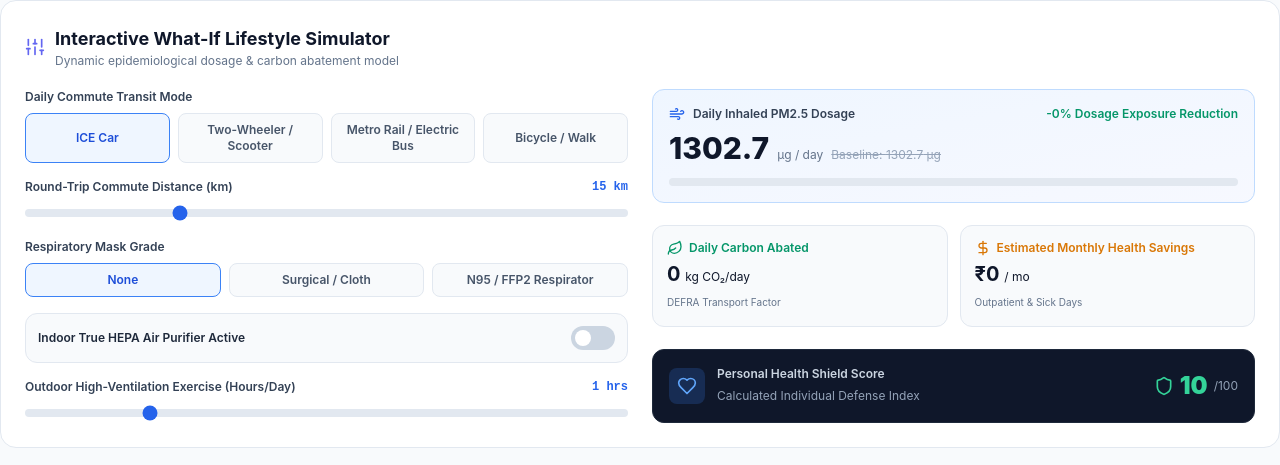
Scenario: WhatIfSimulator Interactions & State Transitions › adjusts outdoor exercise hours slider
The width and height of the screenshot is (1280, 465).
Set the slider labelled "Outdoor High-Ventilation Exercise (Hours/Day)" to "3" at (385, 413), box left=25, top=409, right=628, bottom=417
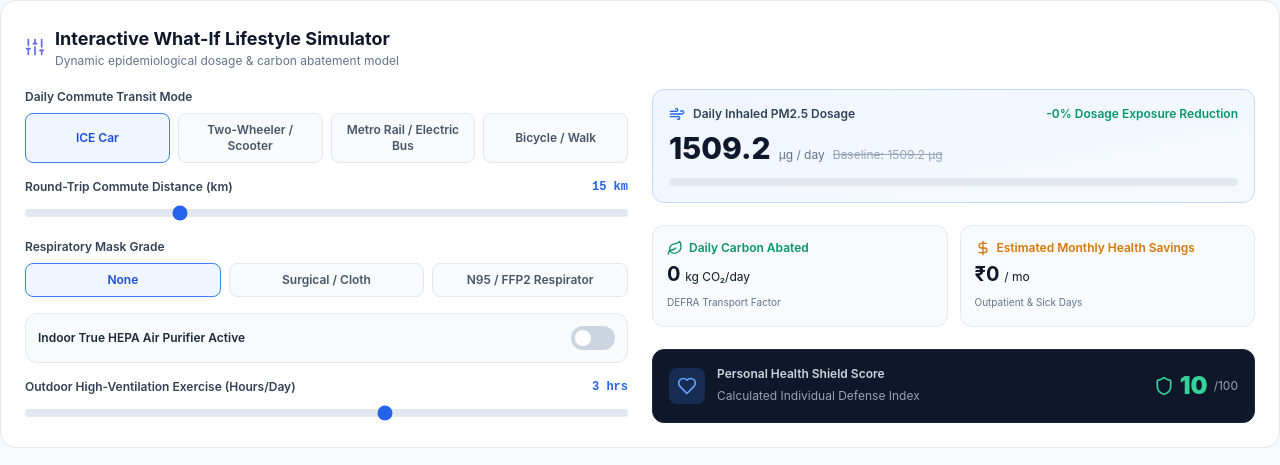
Now the text "3 hrs" is shown, box left=592, top=379, right=628, bottom=395
